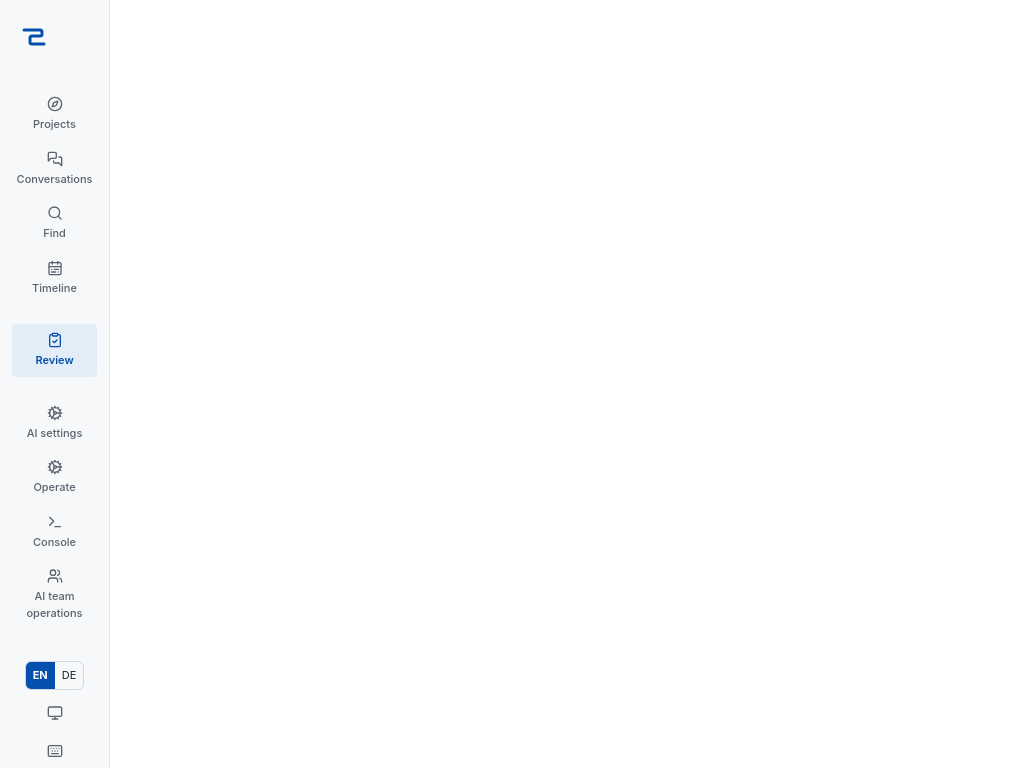
it: Shell › closes keyboard help when its backdrop is pressed
What coordinates should you click on to do the following:
click the button named "Keyboard shortcuts"
I would click on:
 (54, 750)
Its box is [40,736,70,766].
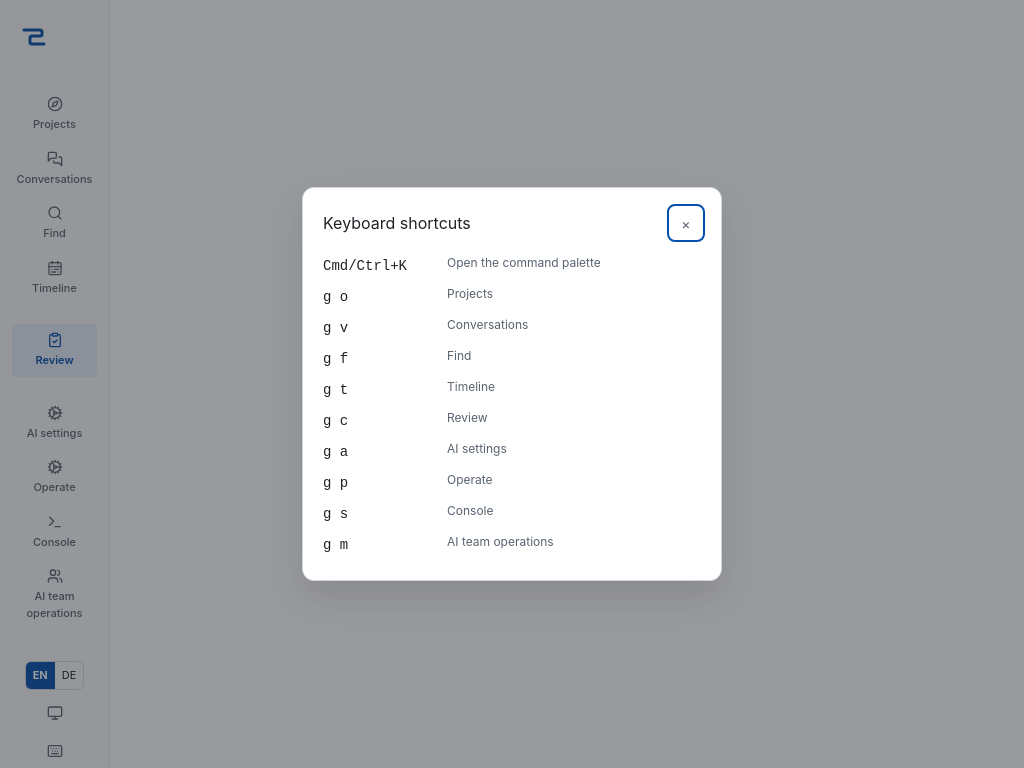
What coordinates should you click on to do the following:
click the element with test id "keyboard-help-backdrop"
I would click on:
 (61, 384)
Its box is [0,0,1023,767].
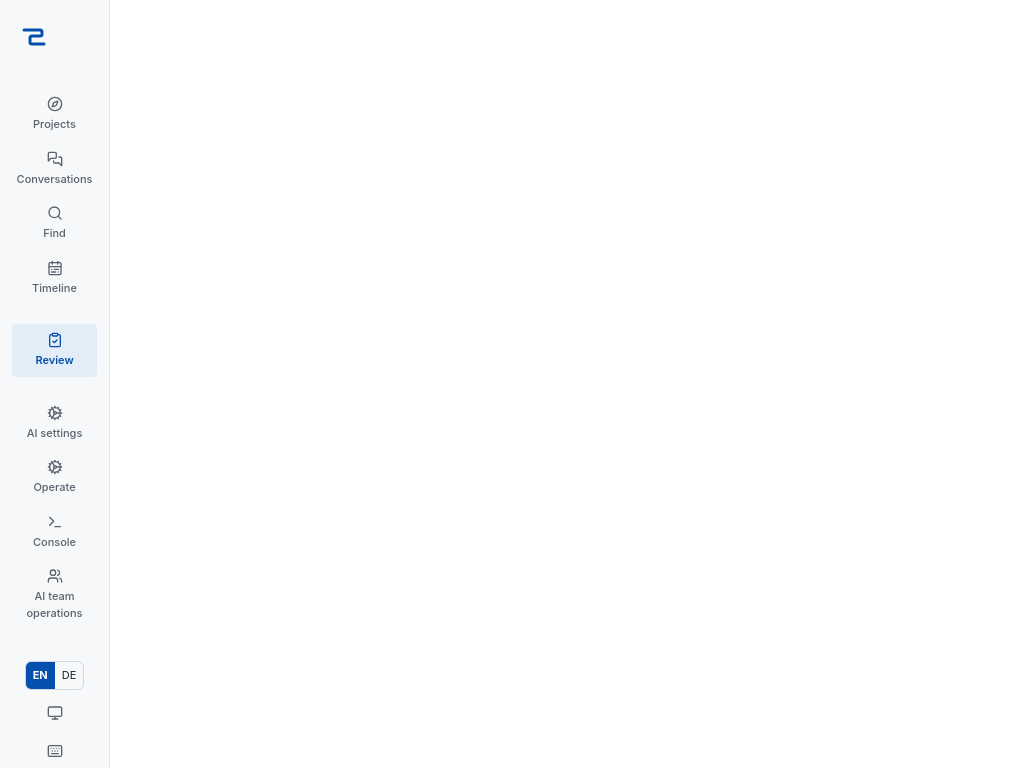
expect the heading "Keyboard shortcuts" is gone: met
